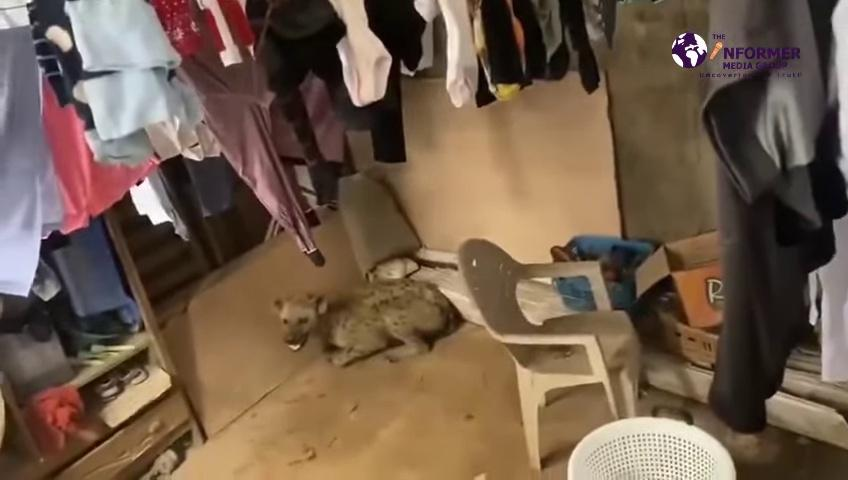hyenas: (260, 272, 464, 373)
